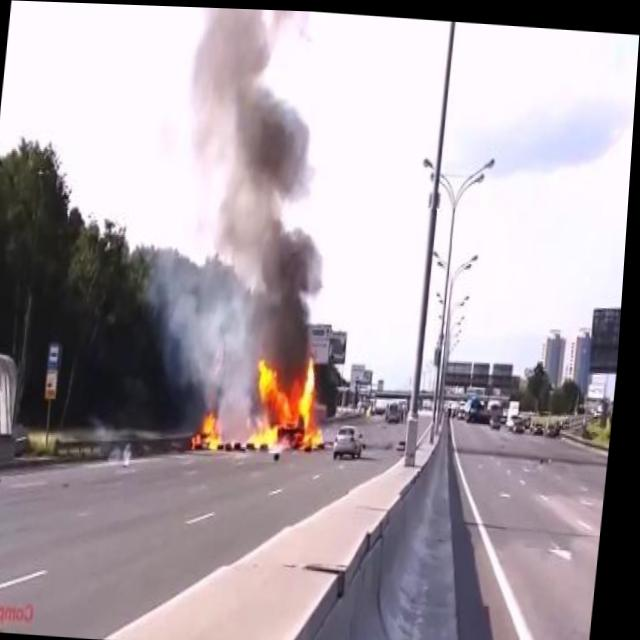fire: (249, 347, 338, 452), (195, 403, 229, 452)
